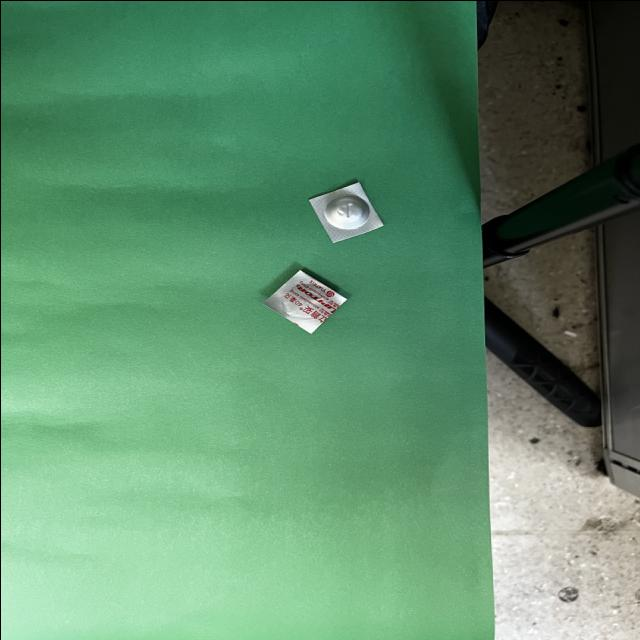Other Objects: (264, 270, 346, 332), (309, 182, 383, 242)
